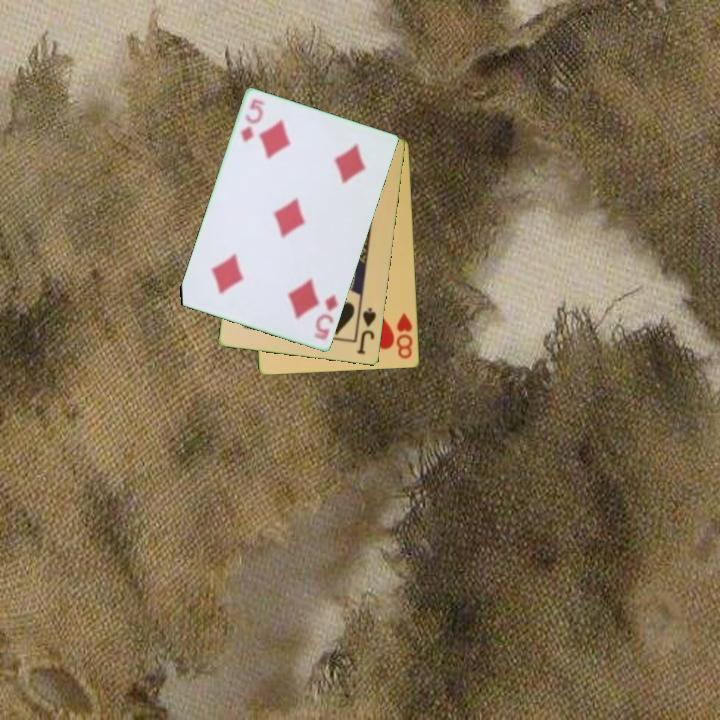5d: (311, 291, 341, 344), (236, 96, 268, 145)
8h: (393, 310, 416, 362)
Js: (354, 304, 379, 358)
